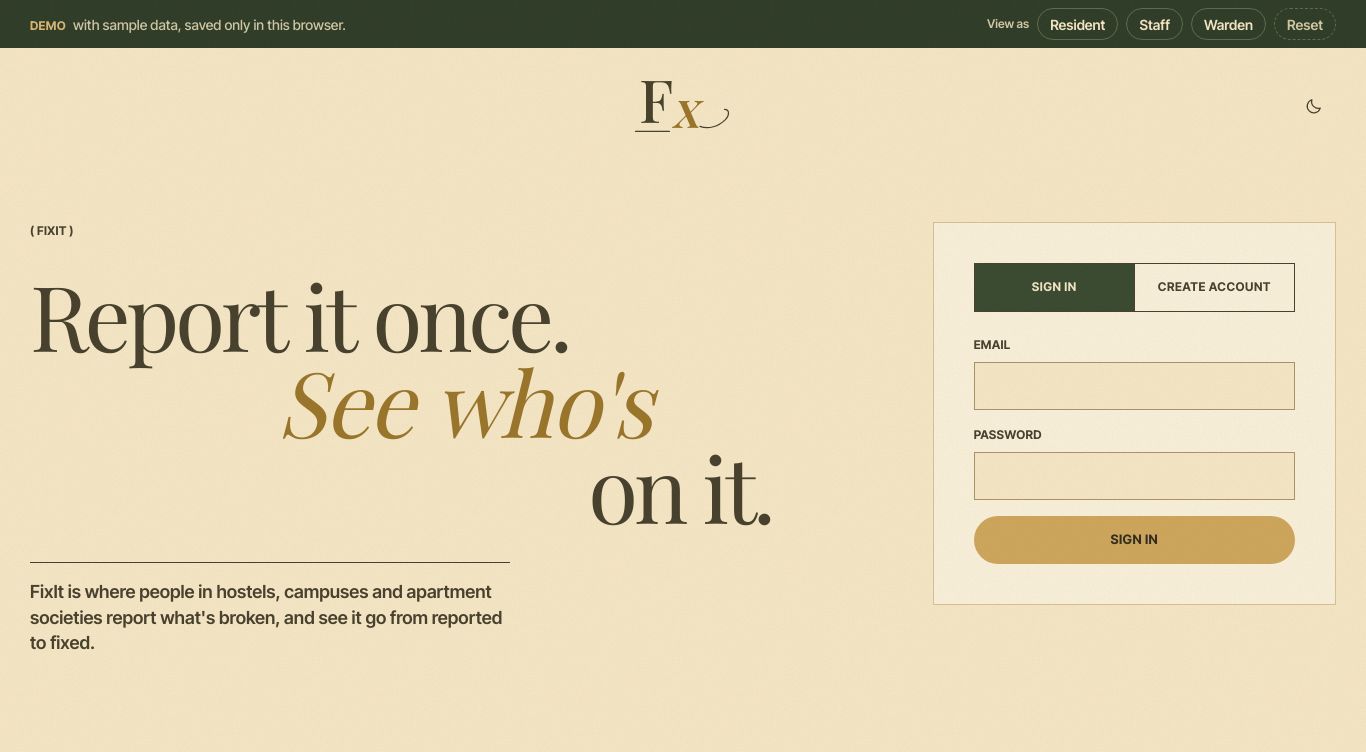
it: demo bar › reset signs out and restores the sample data
Click the button "Staff": (1155, 24) [1126, 8, 1183, 40]
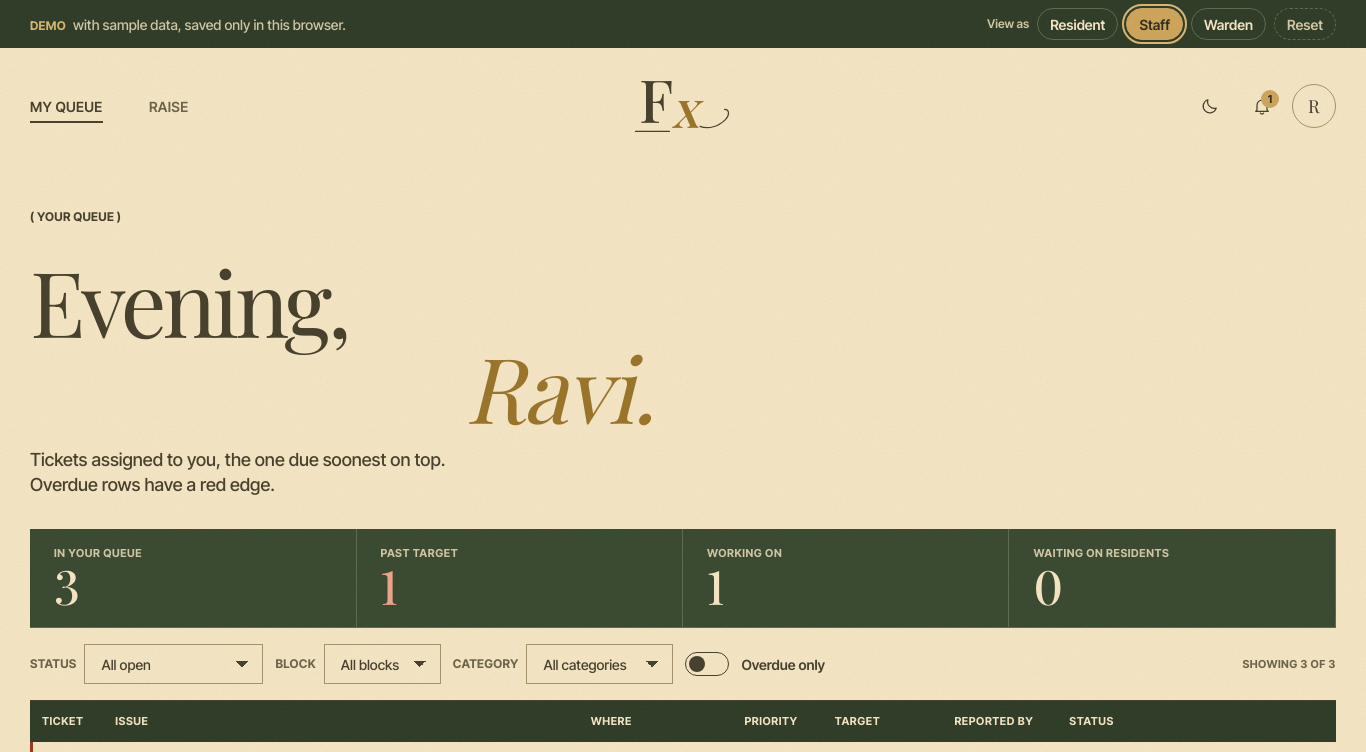
Result: the heading "Evening, Ravi." is shown at [30, 240, 654, 448]
Click the button "Reset": (1305, 24) [1274, 8, 1336, 40]
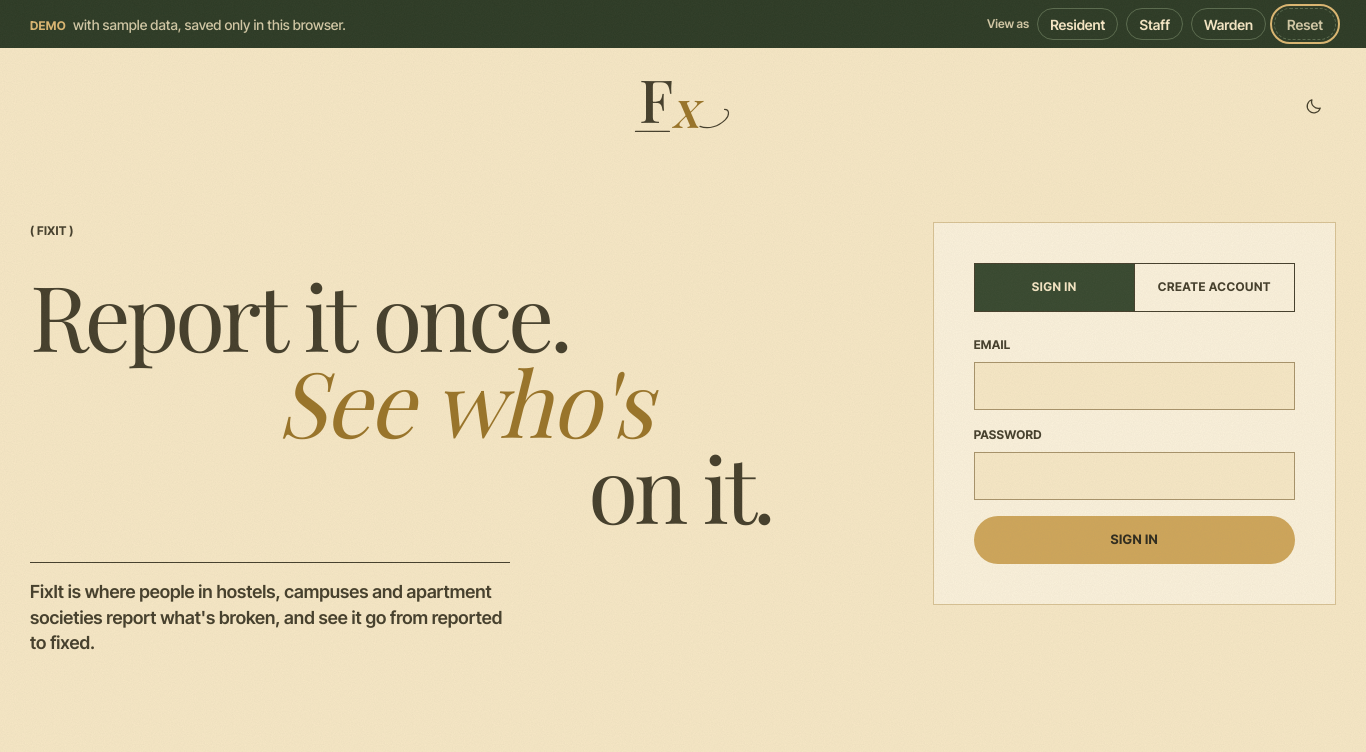
Result: the button "Staff" is not pressed at [1126, 8, 1183, 40]
